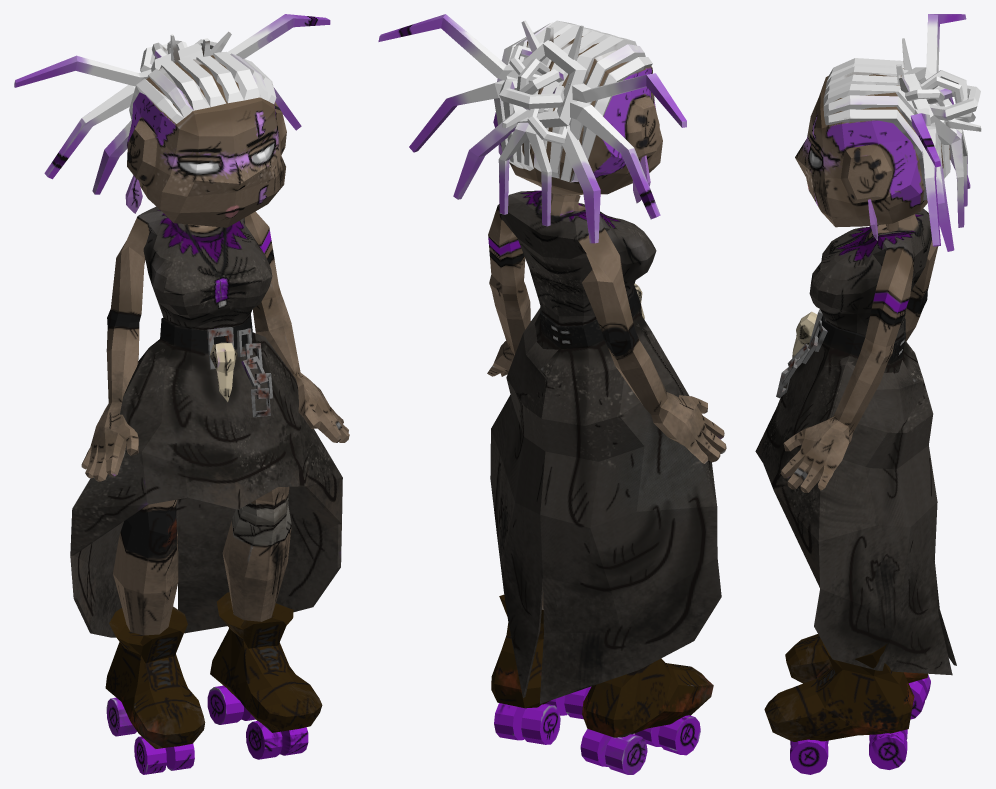
The model's file is bruja_000055.obj.
3 views of the same model, side by side, from view 1: azimuth 30°, elevation 25°; view 2: azimuth 150°, elevation 25°; view 3: azimuth 270°, elevation 25° (orthographic). The views are drawn at different scales.
Parts seen in each view (by area): view 1: Bruja_Plane.001; view 2: Bruja_Plane.001; view 3: Bruja_Plane.001.
Boxes of the visible parts, <box> form: Bruja_Plane.001: <box>14,14,349,774</box>; Bruja_Plane.001: <box>378,14,726,774</box>; Bruja_Plane.001: <box>755,14,981,774</box>.
Size of the model in its own units: 7.46 by 16.5 by 4.84.
